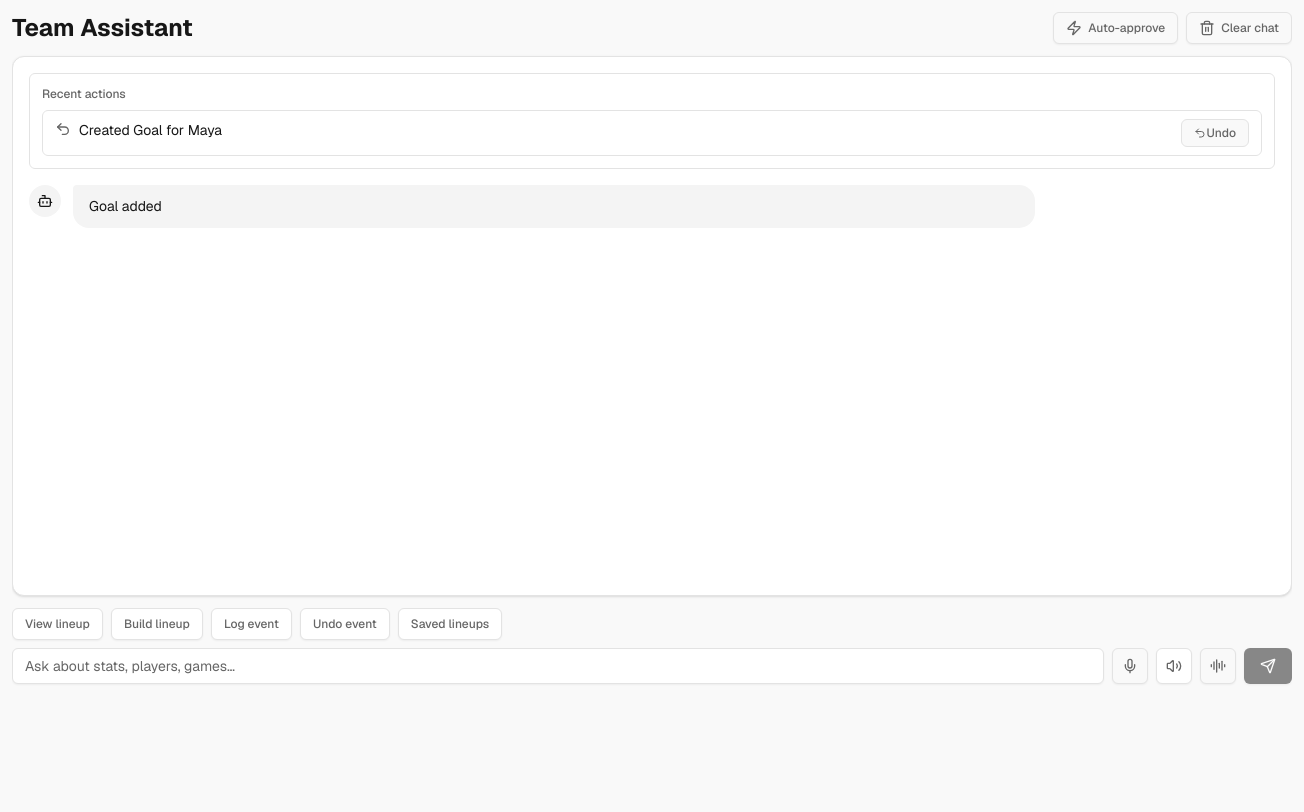
it: Chat action receipts › keeps an applied card and shows the server error on a 409 conflict
The width and height of the screenshot is (1304, 812).
Click the button "Undo". click: (1215, 133)
box: [1182, 119, 1249, 147]
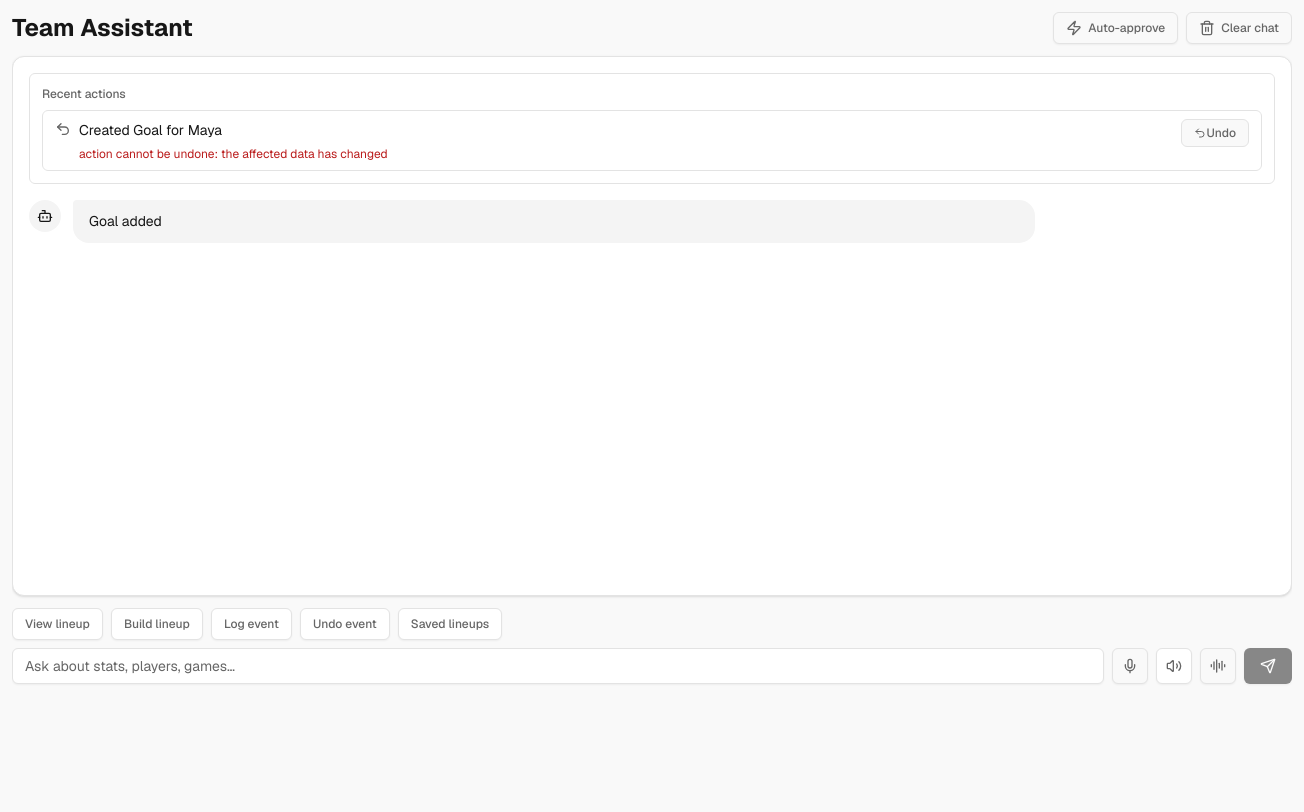
expect the text "action cannot be undone: the affected data has changed" is shown: met, box [79, 146, 388, 162]
